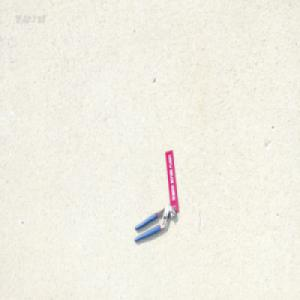Label: (165, 148, 178, 210)
Pliers: (133, 204, 175, 242)
